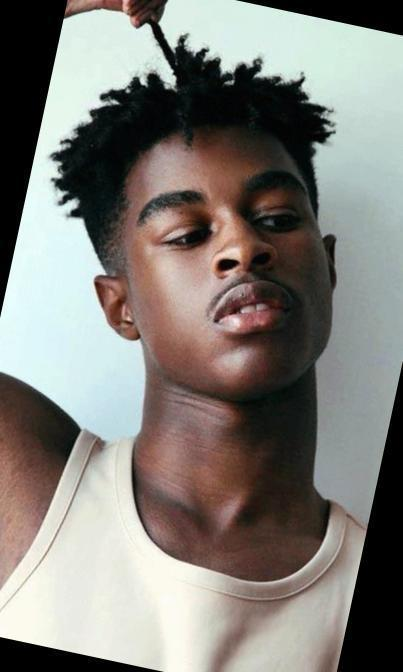Sober: (145, 147, 320, 377)
